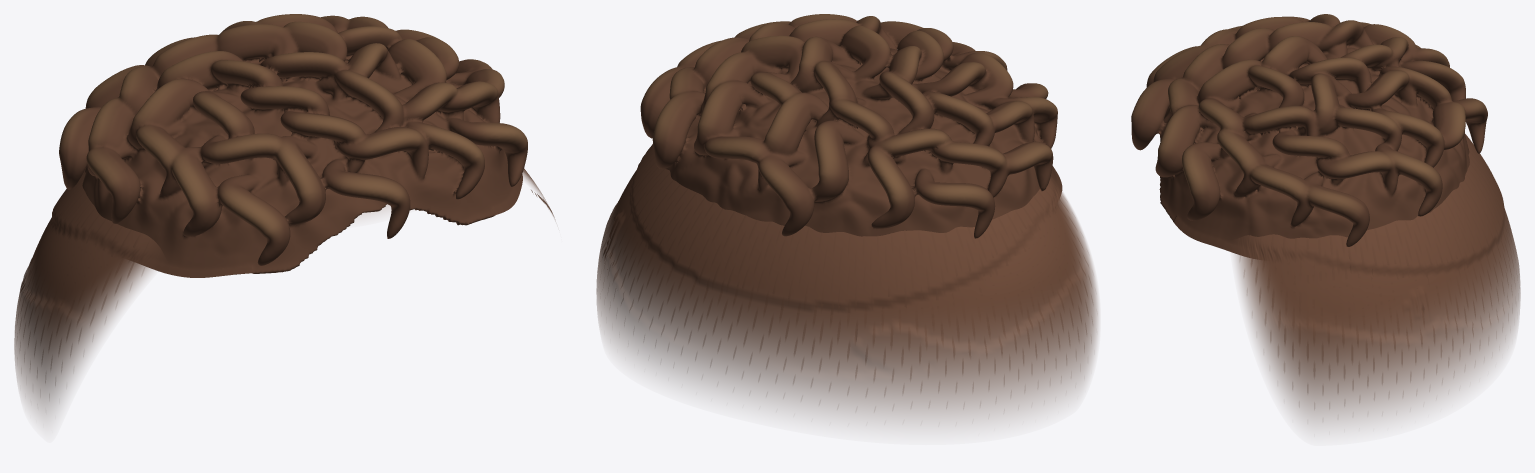
The model's file is Masculine-curly-top-headband258-hair-ombre.glb.
3 views of the same model, side by side, from view 1: azimuth 30°, elevation 25°; view 2: azimuth 150°, elevation 25°; view 3: azimuth 270°, elevation 25° (orthographic). The views are drawn at different scales.
Visible parts, largest first — view 1: 226 hair / Hair252 / sculpted curl groups, 226 hair / Hair258 / smooth side fade, 226 hair / Hair258 / directional fade marks; view 2: 226 hair / Hair258 / smooth side fade, 226 hair / Hair252 / sculpted curl groups, 226 hair / Hair258 / directional fade marks; view 3: 226 hair / Hair252 / sculpted curl groups, 226 hair / Hair258 / smooth side fade, 226 hair / Hair258 / directional fade marks.
Boxes of the visible parts, <box> form: 226 hair / Hair252 / sculpted curl groups: <box>59,14,527,277</box>; 226 hair / Hair258 / smooth side fade: <box>14,167,555,419</box>; 226 hair / Hair258 / directional fade marks: <box>15,170,159,385</box>; 226 hair / Hair258 / smooth side fade: <box>596,144,1098,424</box>; 226 hair / Hair252 / sculpted curl groups: <box>640,14,1062,238</box>; 226 hair / Hair258 / directional fade marks: <box>603,144,1092,395</box>; 226 hair / Hair252 / sculpted curl groups: <box>1131,14,1487,258</box>; 226 hair / Hair258 / smooth side fade: <box>1233,134,1520,426</box>; 226 hair / Hair258 / directional fade marks: <box>1238,136,1512,408</box>.
Size of the model in its own units: 0.9705 by 0.665 by 0.7492.
